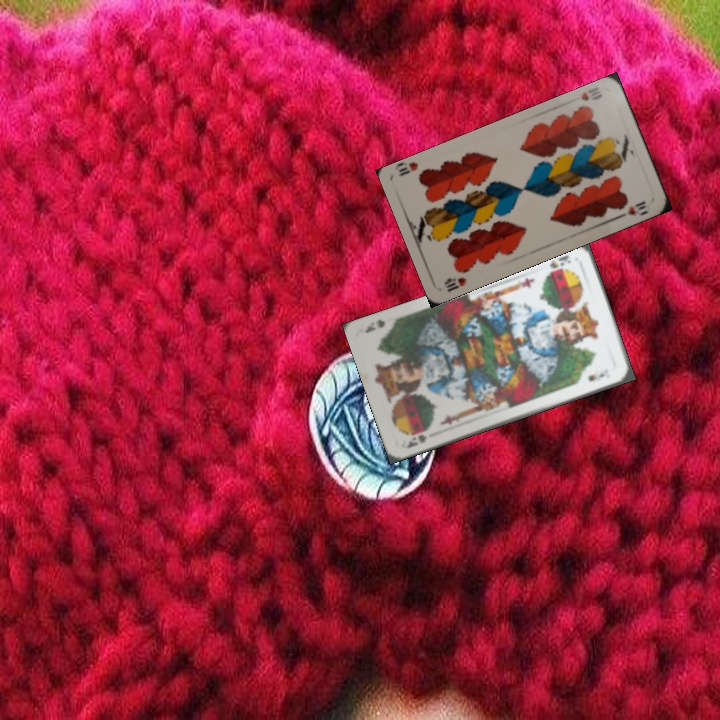H10: (440, 273, 469, 294), (577, 88, 605, 104)
SK: (402, 425, 432, 451), (545, 251, 573, 271)
